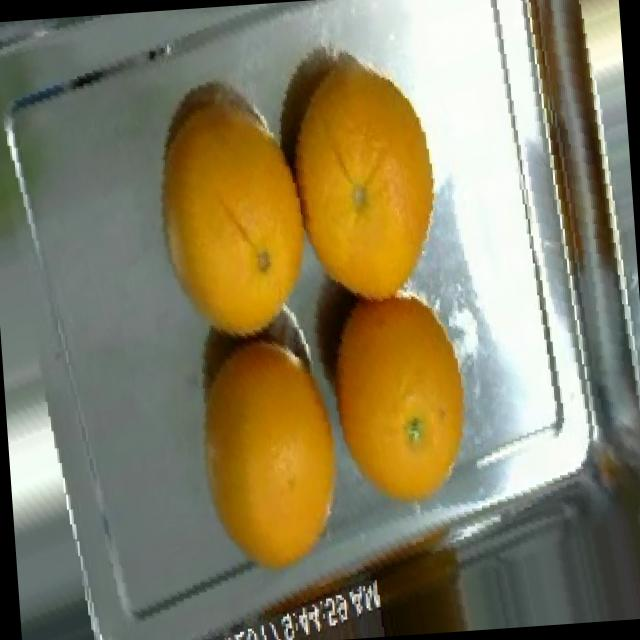Fruit: (327, 296, 492, 530), (182, 388, 358, 595)
